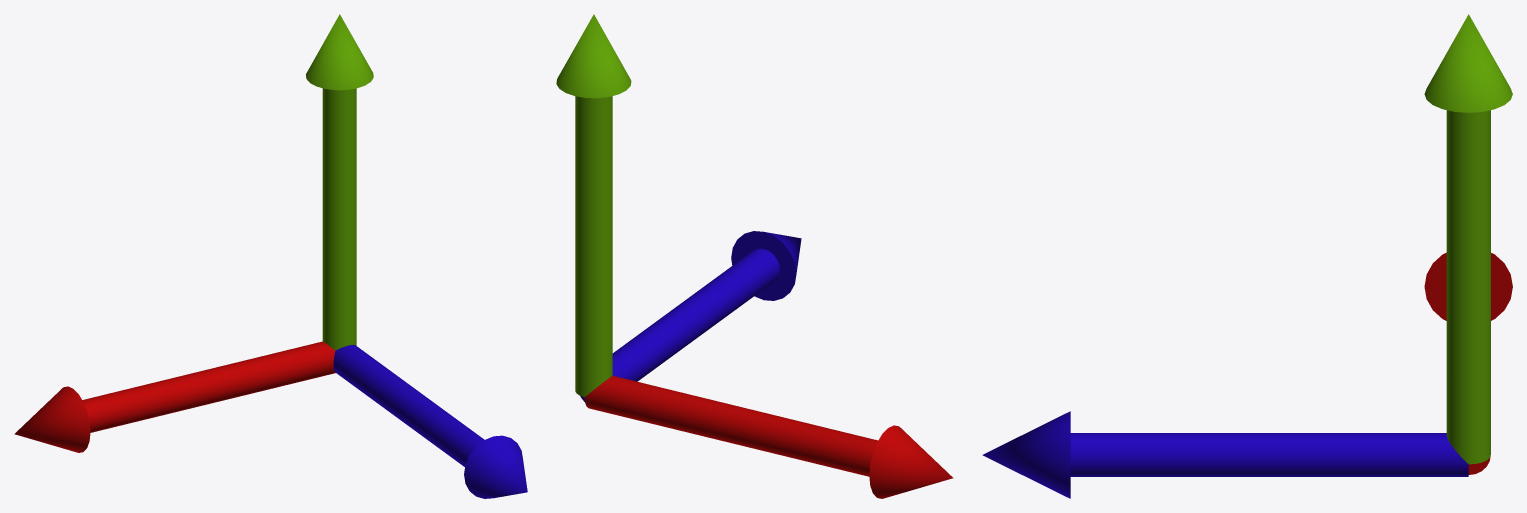
The model's file is NewArrow.fbx.
The picture shows the model from 3 angles, left to right: view 1: azimuth 30°, elevation 25°; view 2: azimuth 150°, elevation 25°; view 3: azimuth 270°, elevation 25°; orthographic projection. The views are drawn at different scales.
Visible parts, largest first — view 1: polySurface7; view 2: polySurface7; view 3: polySurface7.
Part boxes in pixels (left/top/right/bottom): polySurface7: left=14, top=14, right=527, bottom=498; polySurface7: left=556, top=14, right=953, bottom=498; polySurface7: left=982, top=14, right=1512, bottom=498.
Size of the model in its own units: 12 by 12 by 12.
